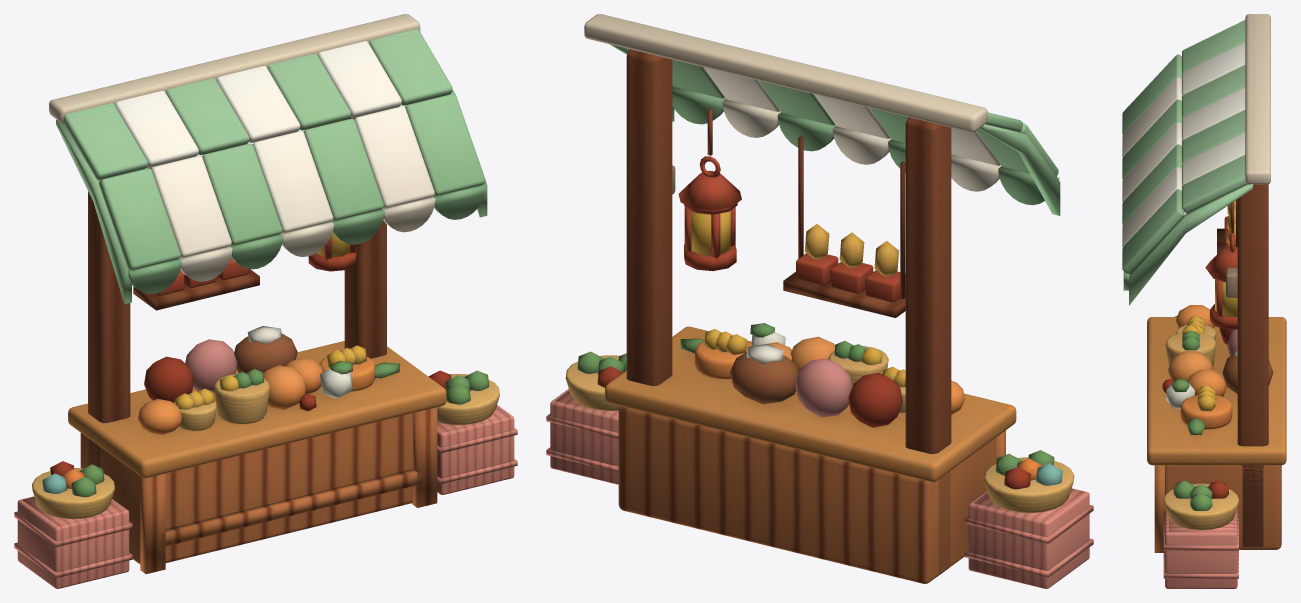
File: awning_stall_4_high.glb
The picture shows the model from 3 angles, left to right: view 1: azimuth 30°, elevation 25°; view 2: azimuth 150°, elevation 25°; view 3: azimuth 270°, elevation 25°; orthographic projection. The views are drawn at different scales.
Parts seen in each view (by area): view 1: awning_stall_4; view 2: awning_stall_4; view 3: awning_stall_4.
Part boxes in pixels (x1,y1,x2,y2): awning_stall_4: (14, 14, 517, 588); awning_stall_4: (546, 14, 1093, 588); awning_stall_4: (1122, 14, 1286, 588).
Size of the model in its own units: 1.87 by 1.69 by 0.6356.
1 material, 1 textured.
